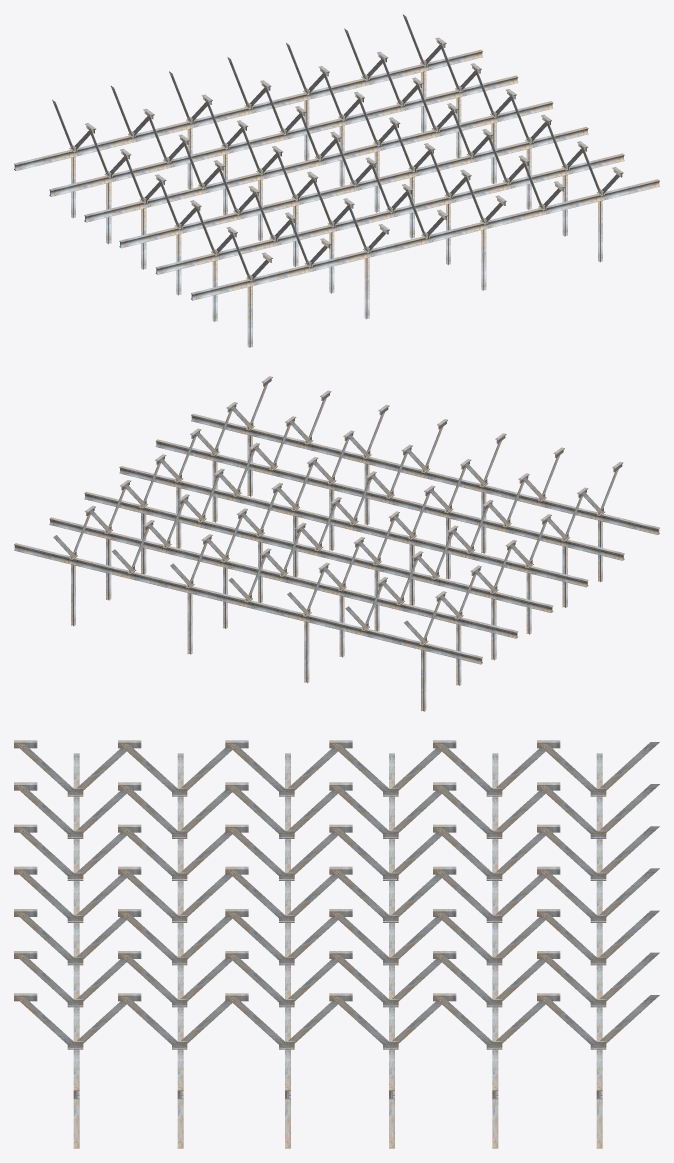
Rendered from steelGrid.FBX.
3 views of the same model, one above another, from view 1: azimuth 30°, elevation 25°; view 2: azimuth 150°, elevation 25°; view 3: azimuth 270°, elevation 25° (orthographic). The views are drawn at different scales.
Parts seen in each view (by area): view 1: steelCarrier034; view 2: steelCarrier034; view 3: steelCarrier034.
Boxes of the visible parts, bbox=[...] form: steelCarrier034: bbox=[14, 14, 659, 347]; steelCarrier034: bbox=[14, 376, 659, 711]; steelCarrier034: bbox=[14, 740, 659, 1148].
Size of the model in its own units: 400 by 84.84 by 324.
